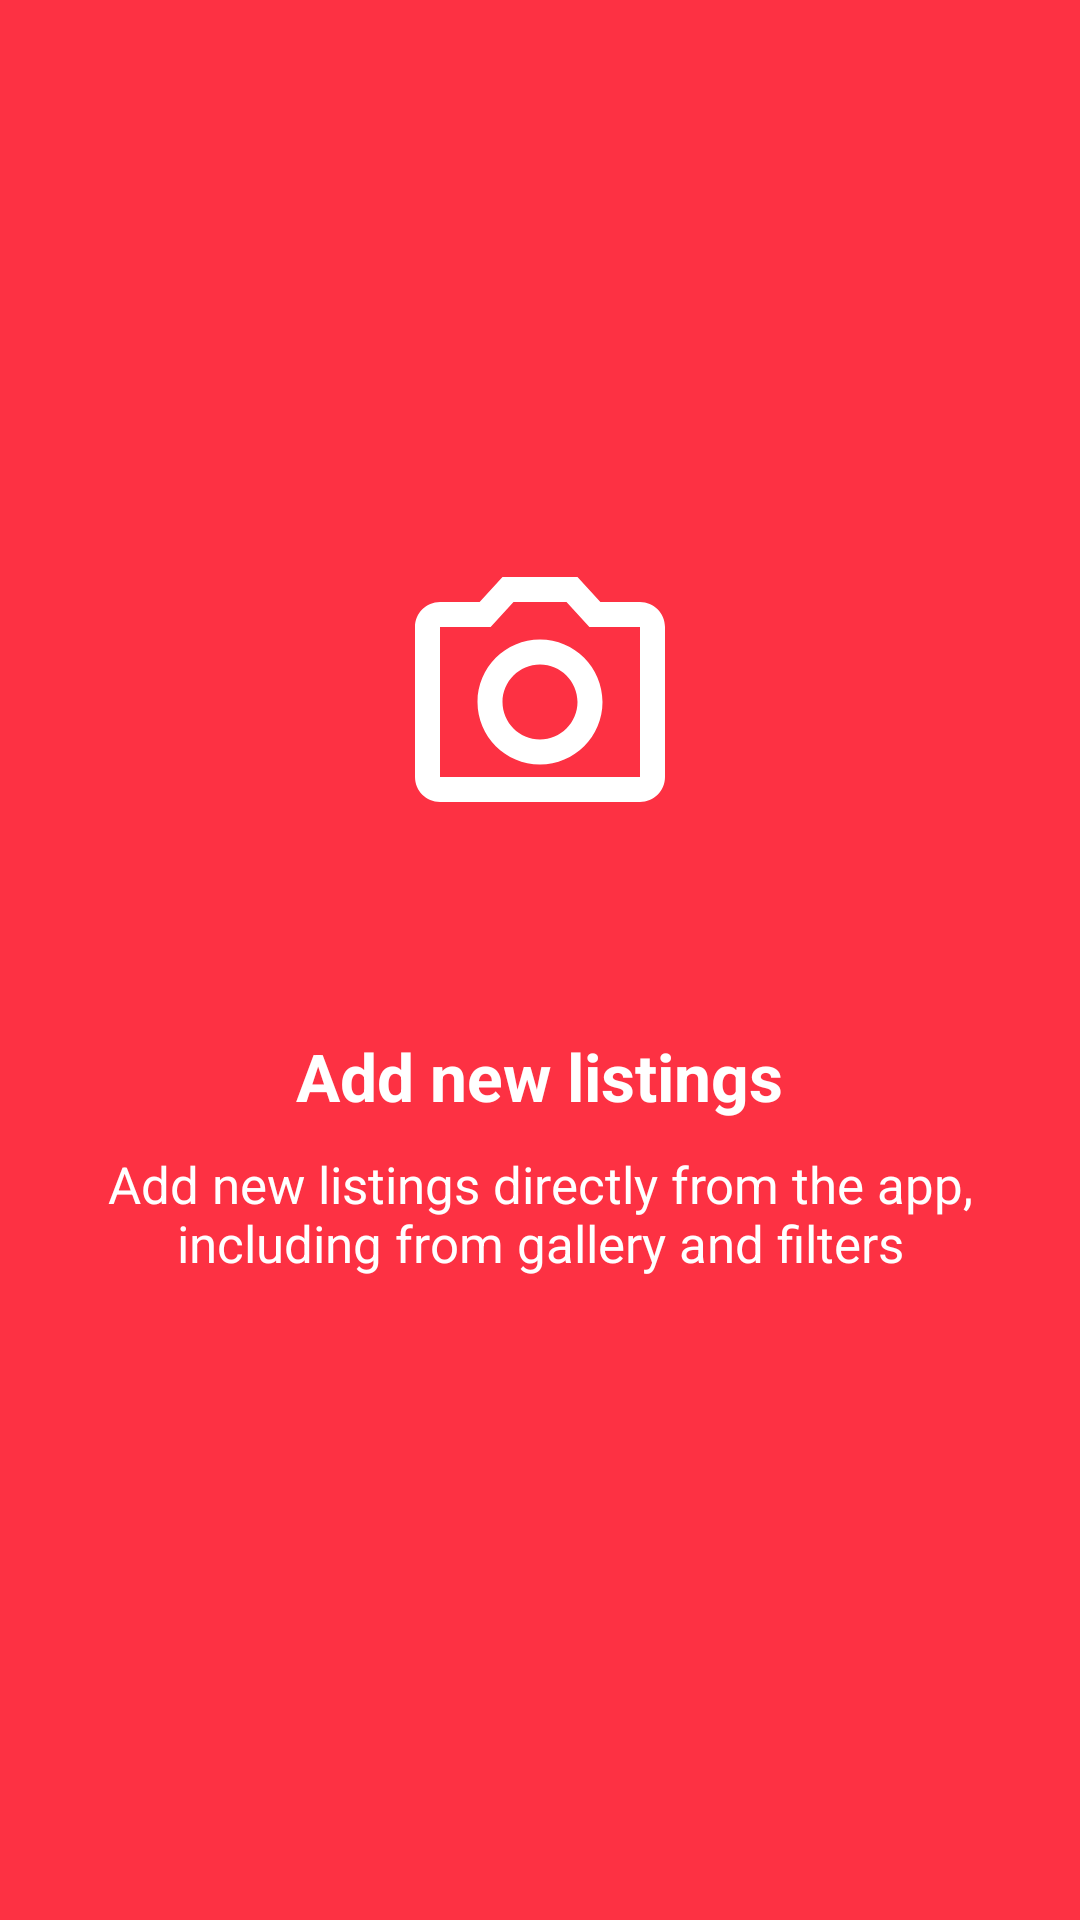

Icons on this 1080w x 1920h Android screen, each with its box as (x1, y1, x2, y2):
camera: (415, 577, 665, 802)
